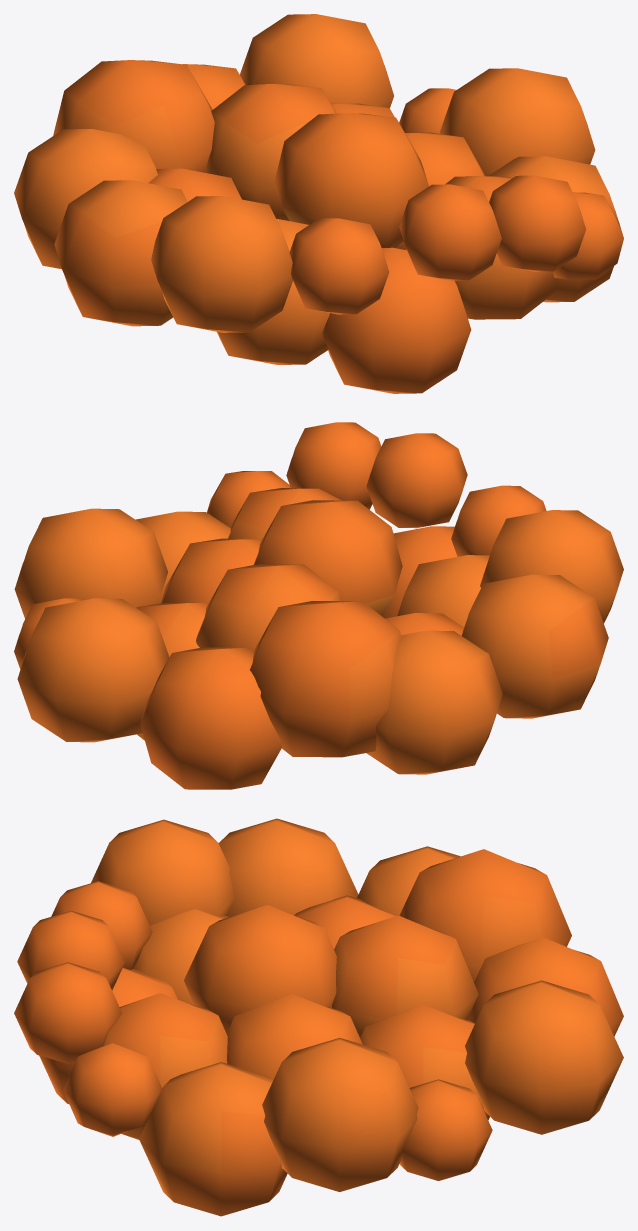
The model's file is Laranjas.fbx.
3 renders of one model, top to bottom at view 1: azimuth 30°, elevation 25°; view 2: azimuth 150°, elevation 25°; view 3: azimuth 270°, elevation 25°, orthographic. The views are drawn at different scales.
Parts seen in each view (by area): view 1: Laranjas; view 2: Laranjas; view 3: Laranjas.
Boxes of the visible parts, x1=… form: Laranjas: x1=14, y1=14, x2=623, y2=393; Laranjas: x1=14, y1=422, x2=623, y2=789; Laranjas: x1=14, y1=818, x2=623, y2=1216.
Size of the model in its own units: 50.86 by 47.44 by 19.34.
